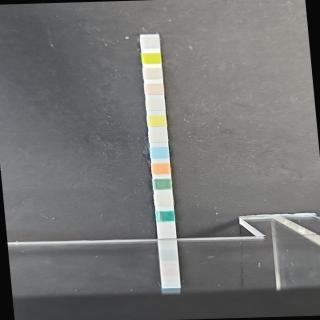mark: (154, 194, 173, 207), (140, 36, 160, 48), (142, 52, 162, 64), (142, 68, 162, 80), (144, 84, 164, 96), (146, 100, 166, 112), (150, 147, 170, 159), (151, 163, 171, 175), (152, 178, 172, 190), (148, 115, 168, 126), (148, 132, 168, 143), (156, 211, 174, 221)
